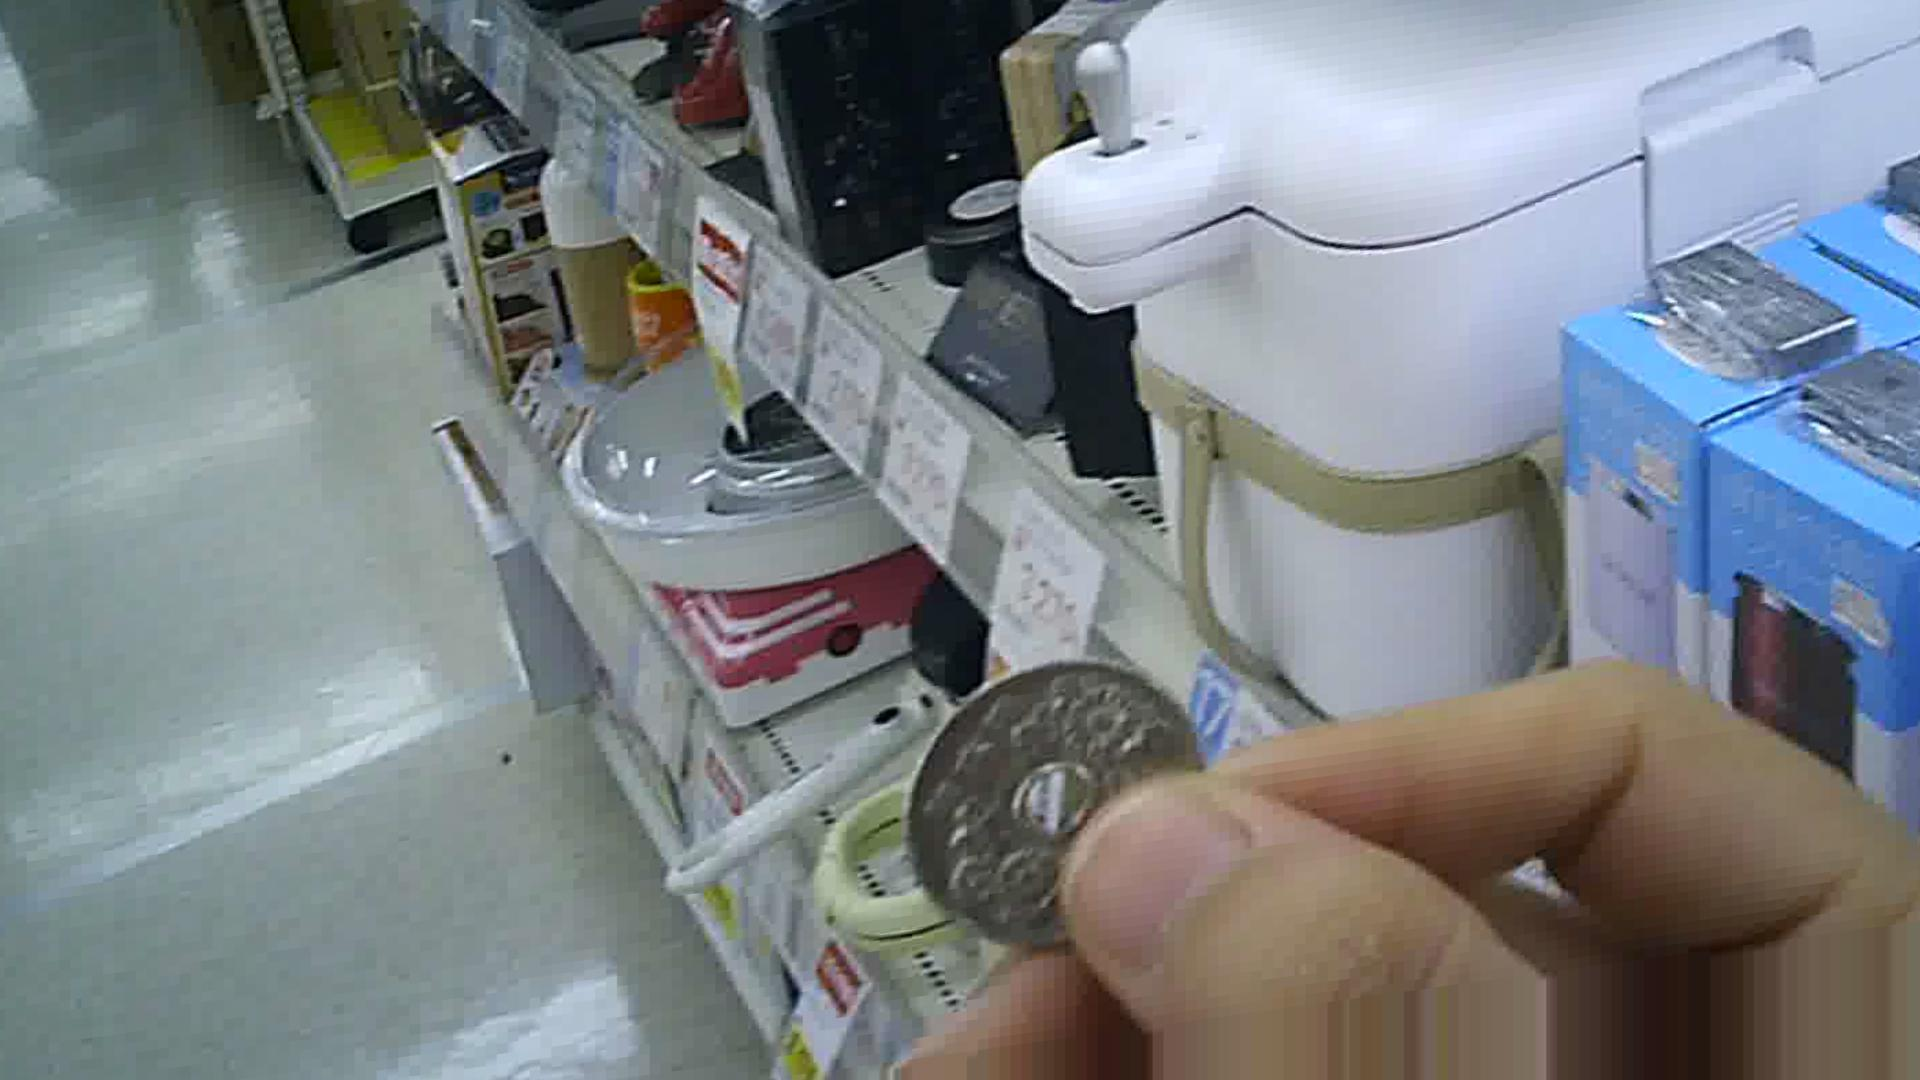50 Yen: (884, 644, 1201, 939)
